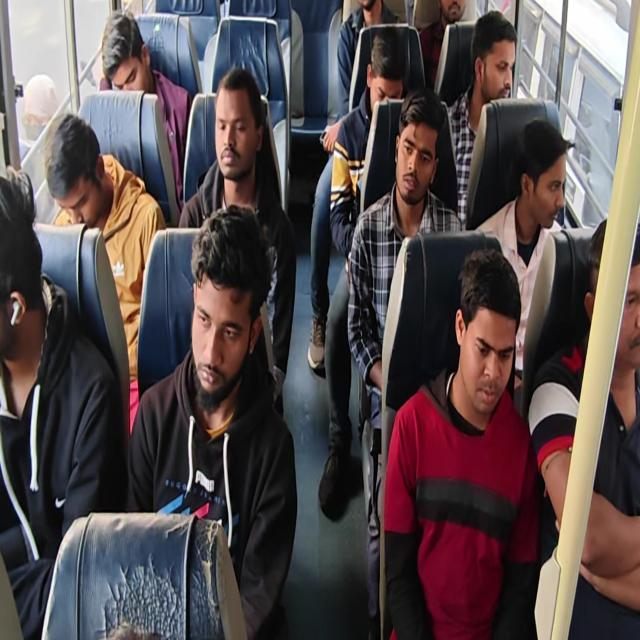person: (188, 242, 250, 402), (0, 181, 44, 365), (46, 120, 111, 234), (595, 219, 640, 368), (457, 302, 504, 442), (207, 79, 260, 178), (392, 116, 442, 218), (98, 21, 152, 106), (518, 134, 562, 230), (472, 22, 518, 102), (363, 47, 406, 131), (437, 0, 468, 34), (351, 0, 389, 20)
